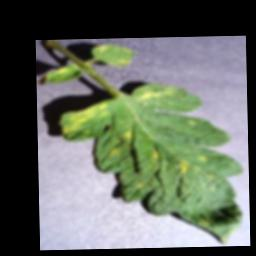Leaf_Mold: (58, 100, 111, 139), (90, 42, 135, 67), (133, 82, 177, 102), (119, 127, 135, 142), (177, 158, 190, 175), (52, 66, 70, 75), (197, 154, 209, 164), (151, 147, 159, 160), (108, 148, 120, 156)
